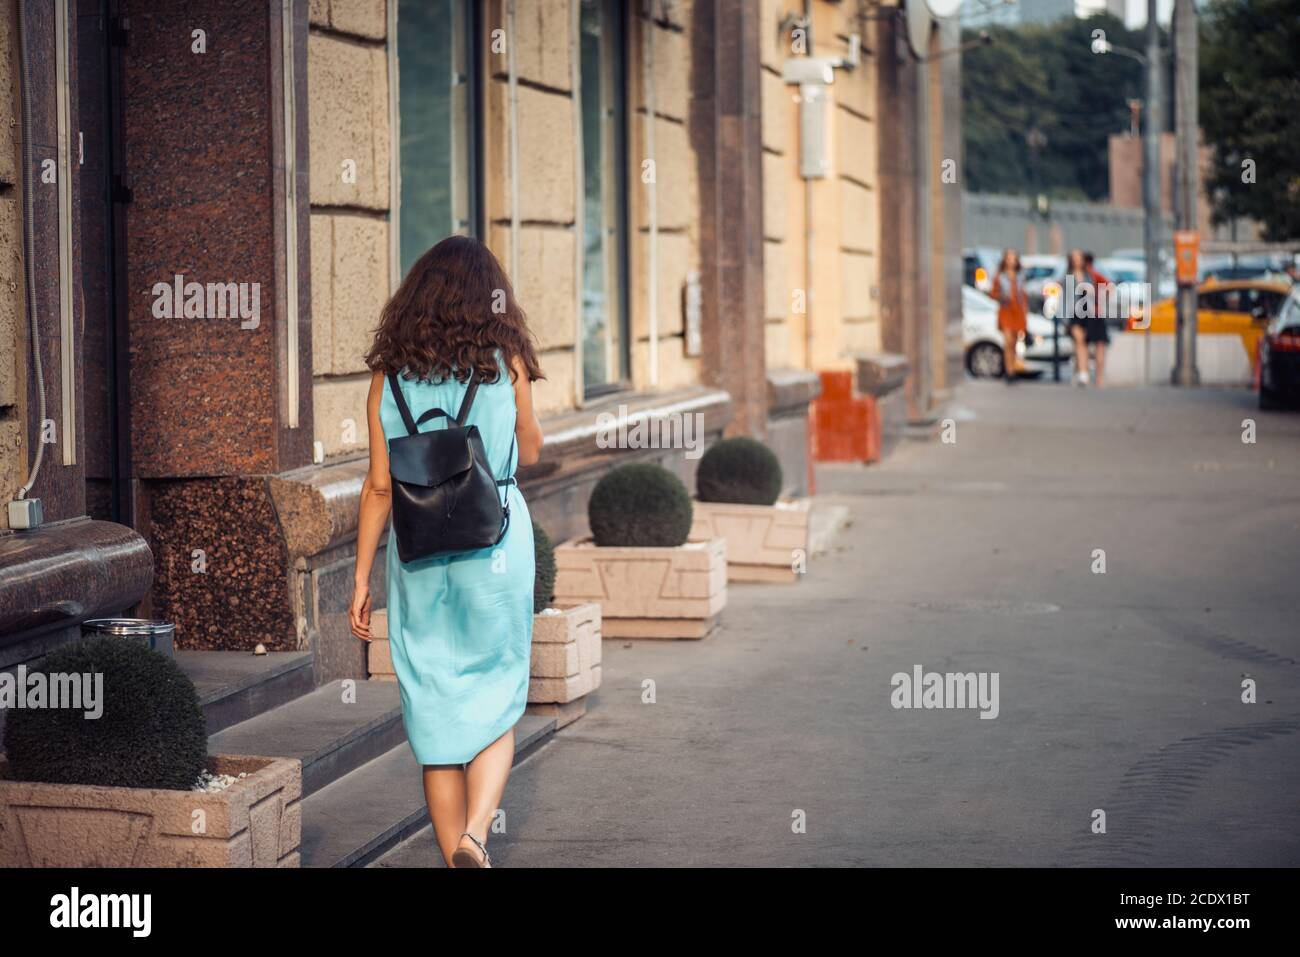person: (342, 233, 553, 869), (987, 245, 1037, 386)
